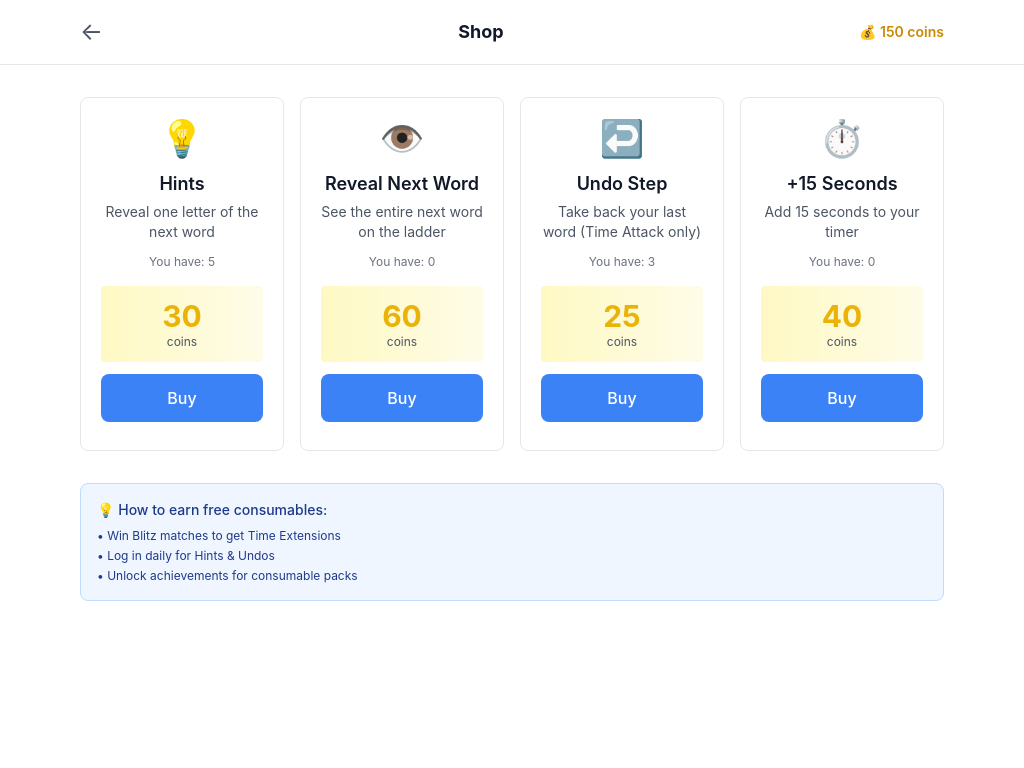
Test: ShopPage Integration Tests › Complete Purchase Flow › complete purchase flow: open modal, confirm, update wallet and inventory
Expected: the text "💰 150 coins" is shown, [859,22,944,42]
Expected: the heading "Hints" is shown, [159,173,205,194]
Click buy button on first item (Hints pack)
Click the button with aria-label "Buy 5x Hints": [182, 398] box [101,374,263,422]
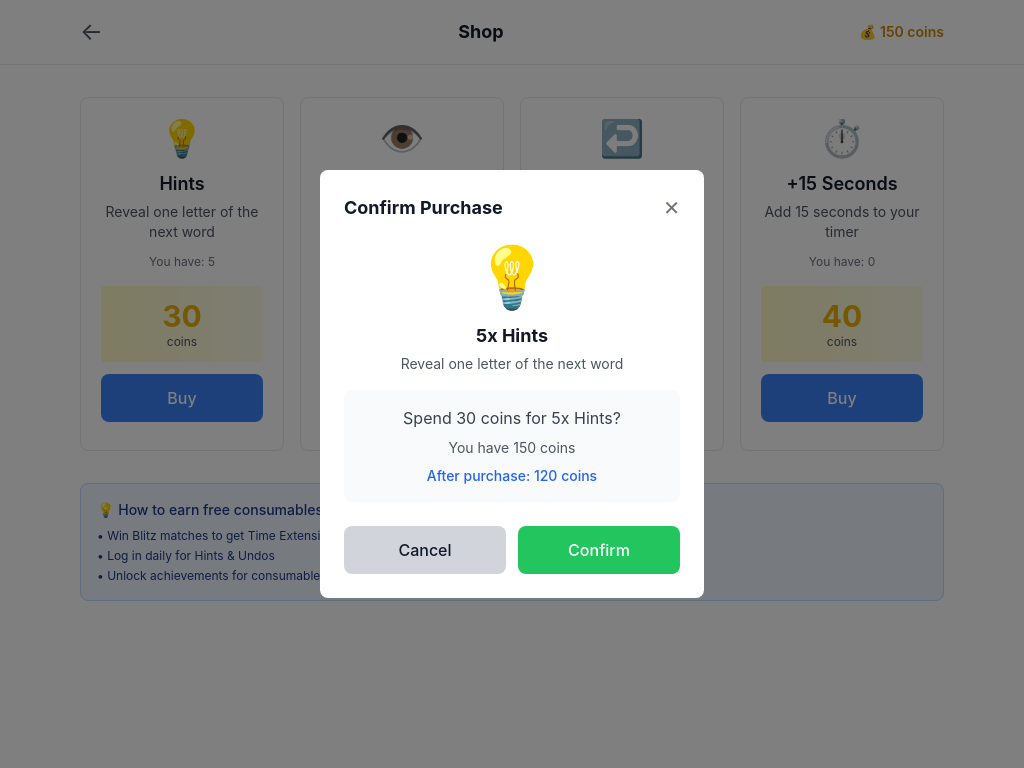
Expected: the dialog is shown, [320,170,704,598]
Expected: the text "Spend 30 coins for 5x Hints?" is shown, [403,408,621,428]
Find and click confirm button
Click the button with aria-label "Confirm purchase": [599, 550] box [518,526,680,574]
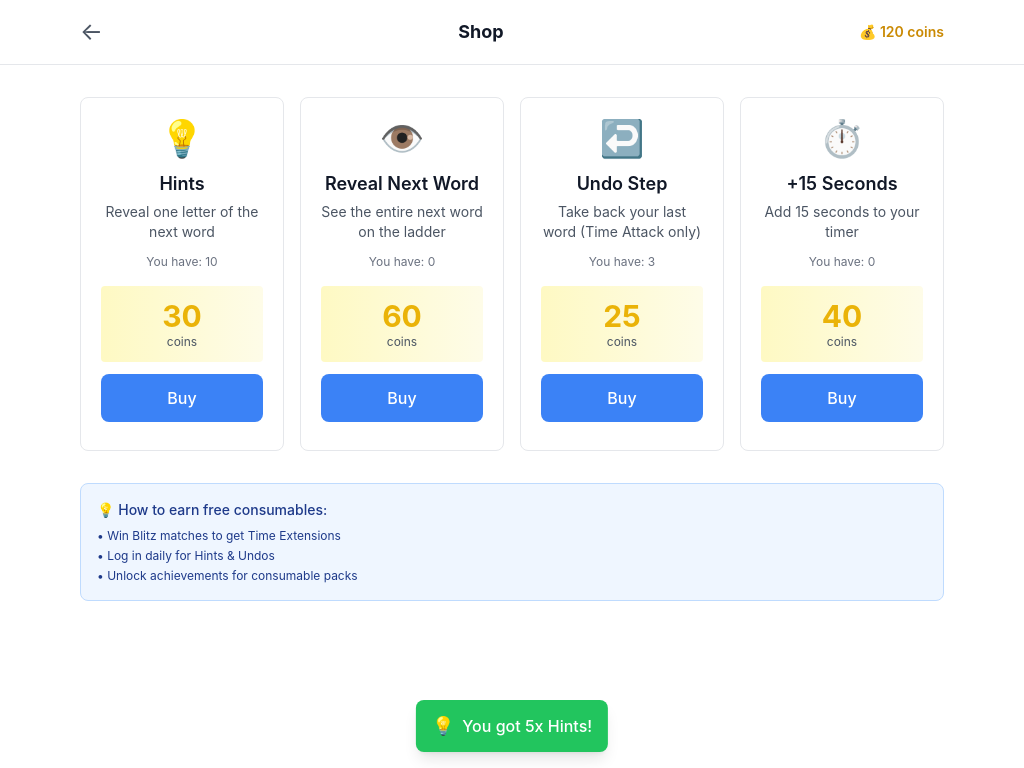
Expected: the dialog is gone
Expected: the text "You got 5x Hints!" is shown, [462,714,592,738]
